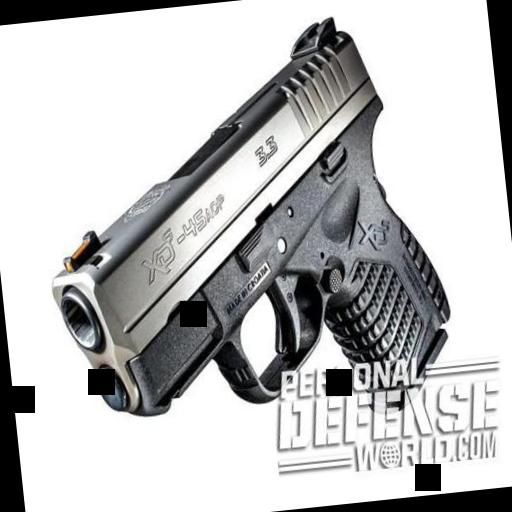Handgun: (26, 5, 467, 439)
